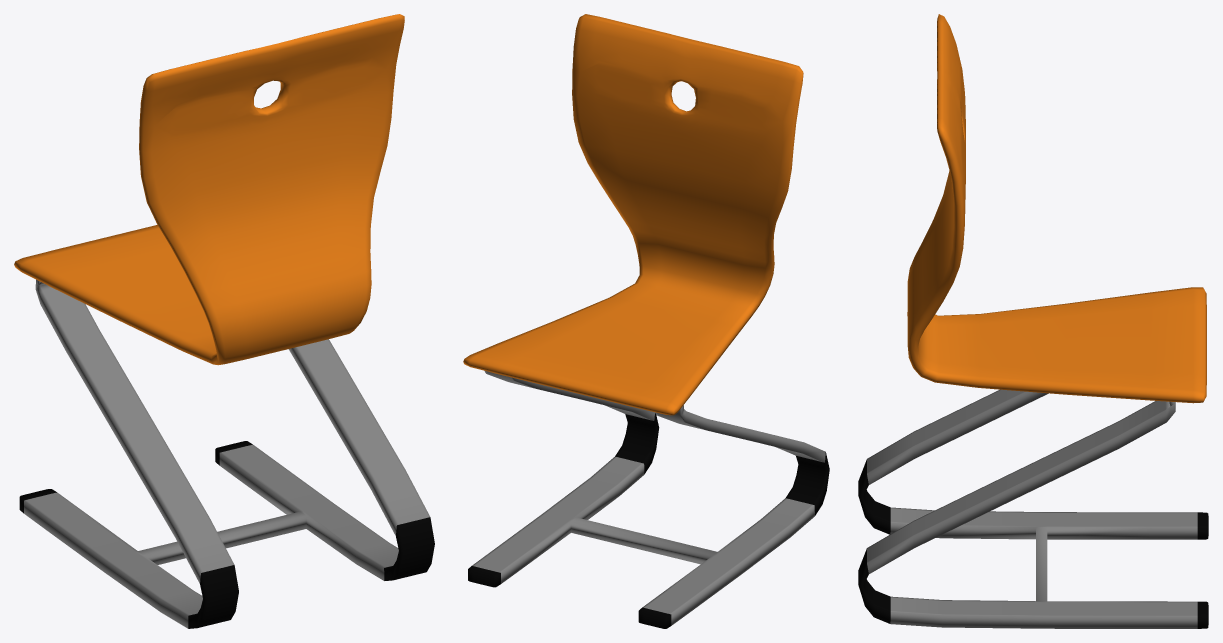
The model's file is Chair_orange_fest.fbx.
The picture shows the model from 3 angles, left to right: view 1: azimuth 30°, elevation 25°; view 2: azimuth 150°, elevation 25°; view 3: azimuth 270°, elevation 25°; orthographic projection. The views are drawn at different scales.
Parts seen in each view (by area): view 1: Chair; view 2: Chair; view 3: Chair.
Boxes of the visible parts, x1,y1,x2,y2 form: Chair: (14, 14, 434, 628); Chair: (463, 14, 829, 628); Chair: (858, 14, 1208, 628).
Bounding box in the file's own units: 40 × 80 × 50.
